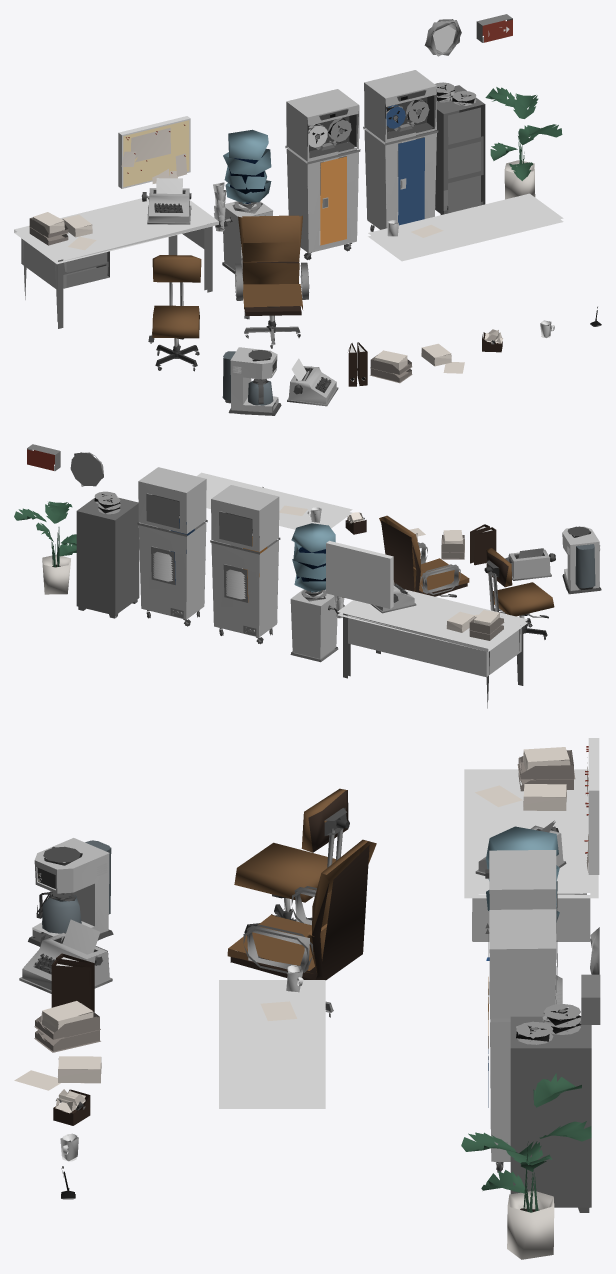
The picture shows the model from 3 angles, top to bottom: view 1: azimuth 30°, elevation 25°; view 2: azimuth 150°, elevation 25°; view 3: azimuth 270°, elevation 25°; orthographic projection. The views are drawn at different scales.
Visible parts, largest first — view 1: Cube.022, Cube.000, Cube.016, Cube.021, Cube.020, Cube.003, Cube.023, Cube.11647, Cube.004, Cube.015, Cylinder.003, Cube.007 (+3 smaller); view 2: Cube.016, Cube.000, Cube.022, Cube.003, Cube.023, Cube.11647, Cube.021, Cube.004, Cube.020, Cylinder.003, Cube.015, Cube (+6 smaller); view 3: Cube.020, Cube.003, Cube.016, Cube.021, Cube.000, Cube.015, Cylinder.003, Cube.004, Cube.022, Cube, Cube.11647, Cube.001 (+12 smaller).
Part boxes in pixels (bbox=[...]): Cube.022: bbox=[285, 89, 360, 259]; Cube.000: bbox=[363, 70, 438, 231]; Cube.016: bbox=[14, 198, 218, 328]; Cube.021: bbox=[235, 215, 309, 348]; Cube.020: bbox=[368, 193, 563, 261]; Cube.003: bbox=[432, 85, 485, 214]; Cube.023: bbox=[213, 129, 272, 273]; Cube.11647: bbox=[118, 116, 190, 188]; Cube.004: bbox=[148, 255, 201, 371]; Cube.015: bbox=[222, 347, 281, 415]; Cylinder.003: bbox=[485, 87, 562, 199]; Cube.007: bbox=[141, 178, 191, 224]; Cube.016: bbox=[337, 589, 527, 708]; Cube.000: bbox=[137, 467, 207, 626]; Cube.022: bbox=[210, 485, 280, 644]; Cube.003: bbox=[76, 497, 139, 618]; Cube.023: bbox=[290, 523, 344, 662]; Cube.11647: bbox=[326, 540, 394, 608]; Cube.021: bbox=[379, 515, 469, 597]; Cube.004: bbox=[484, 548, 554, 639]; Cube.020: bbox=[197, 472, 352, 529]; Cylinder.003: bbox=[14, 501, 76, 594]; Cube.015: bbox=[562, 526, 601, 594]; Cube: bbox=[505, 548, 555, 580]; Cube.020: bbox=[219, 980, 325, 1108]; Cube.003: bbox=[510, 1016, 591, 1212]; Cube.016: bbox=[464, 769, 598, 941]; Cube.021: bbox=[227, 839, 376, 1017]; Cube.000: bbox=[485, 909, 557, 1172]; Cube.015: bbox=[28, 838, 113, 946]; Cylinder.003: bbox=[461, 1073, 591, 1259]; Cube.004: bbox=[234, 788, 349, 935]; Cube.022: bbox=[485, 850, 562, 1048]; Cube: bbox=[19, 919, 112, 993]; Cube.11647: bbox=[584, 738, 599, 874]; Cube.001: bbox=[51, 960, 91, 1009].
Bounding box in the file's own units: 806 × 273 × 510.
